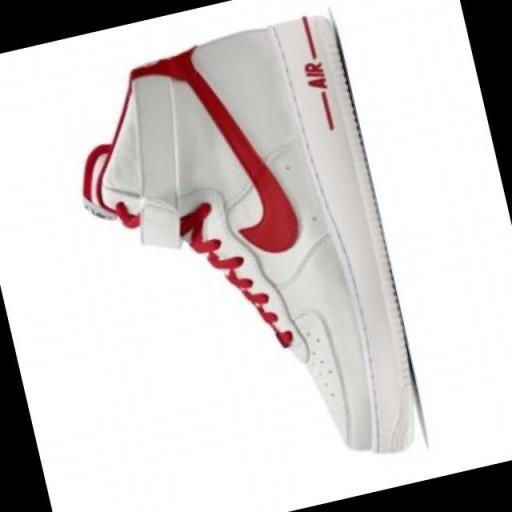Nike: (175, 50, 306, 271)
